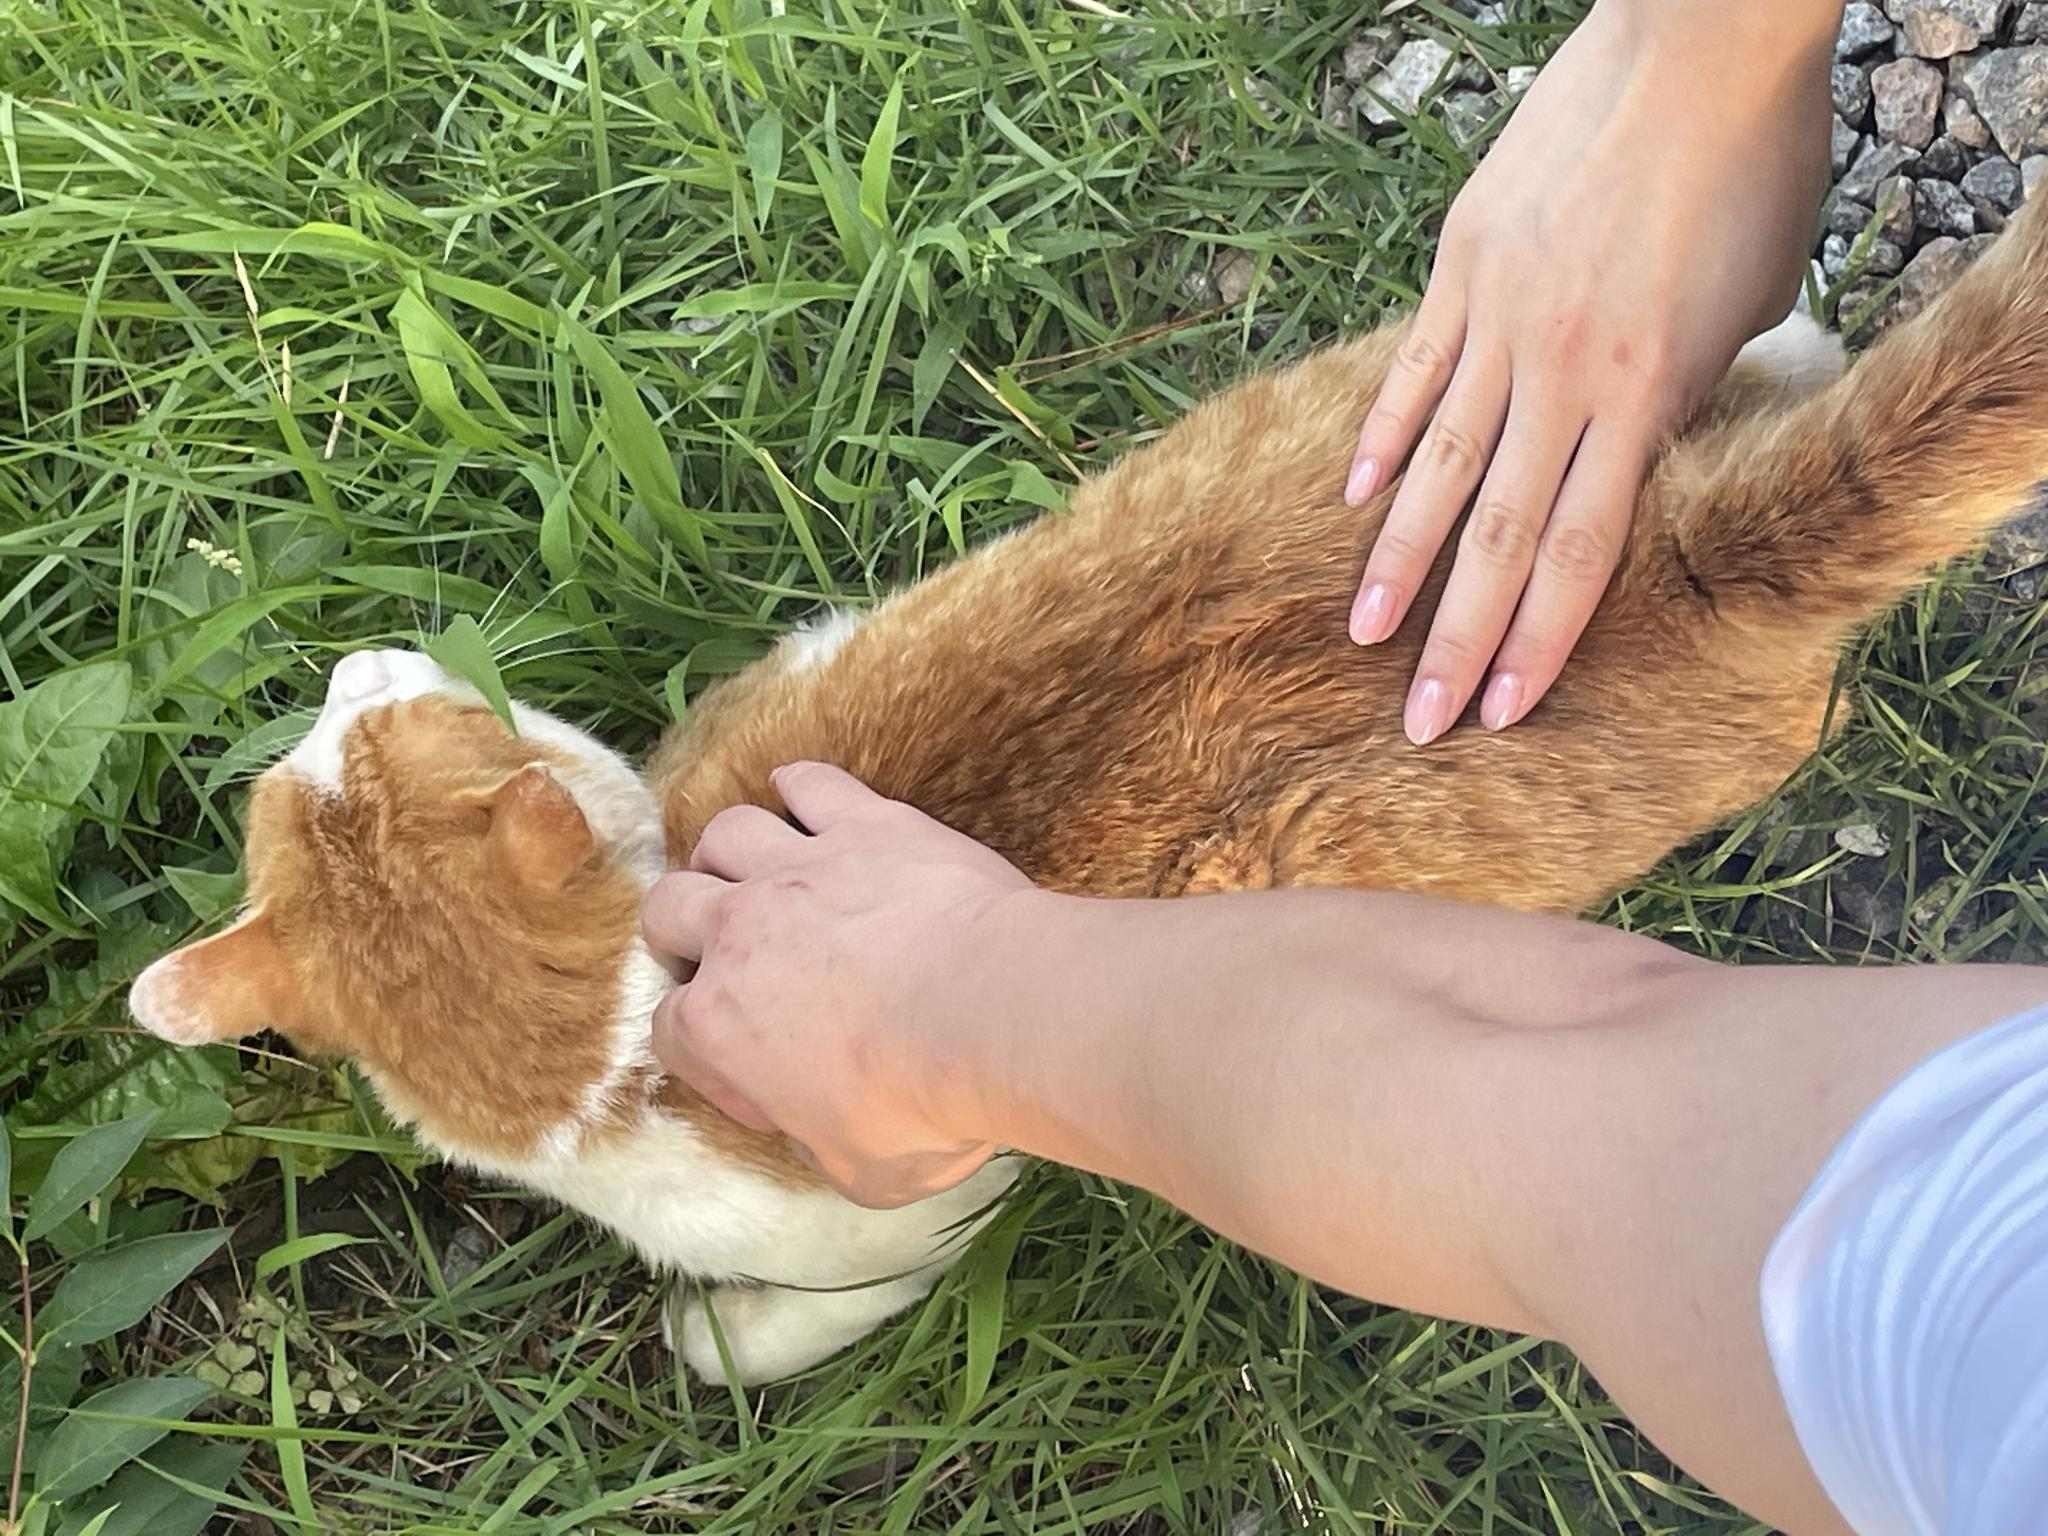cat: (147, 126, 1364, 1536)
